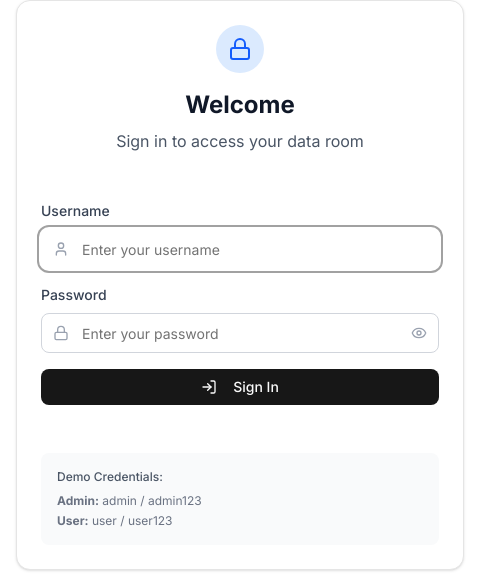
Test: LoginForm › shows loading state during submission
Step 1. Type "admin" into the field with placeholder "Enter your username" → (240, 249), box [41,229,439,269]
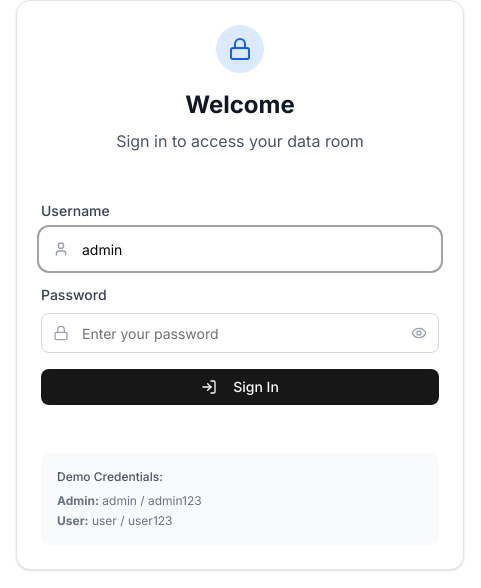
Step 2. Type "admin123" into the password field with placeholder "Enter your password" → (240, 333), box [41,313,439,353]
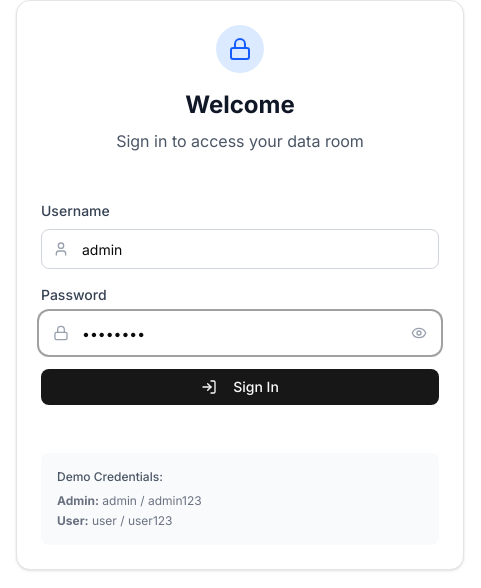
Step 3. Click the button "Sign In" → (240, 387), box [41,369,439,405]
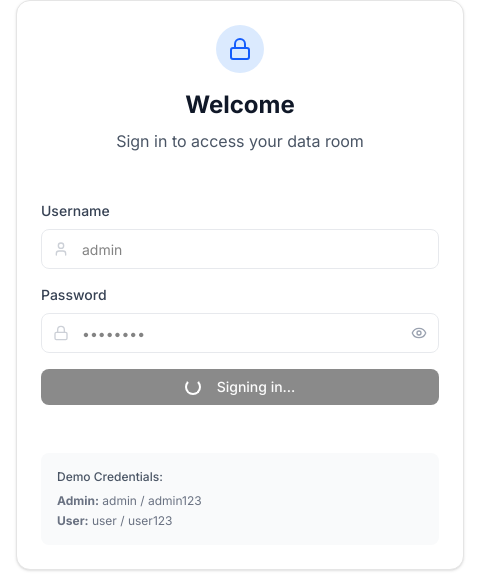
Expected: the button "Signing in..." is disabled, [41,369,439,405]
